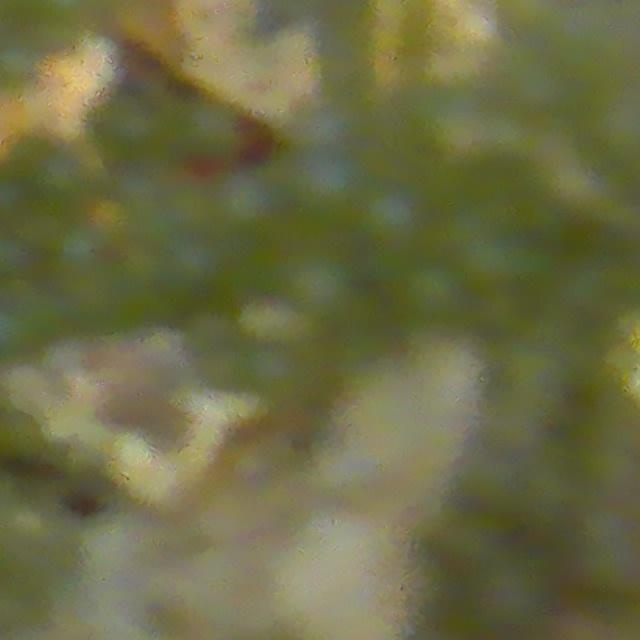SeaGrape: (280, 252, 354, 315), (357, 182, 418, 245), (283, 150, 345, 211), (399, 262, 459, 325)
